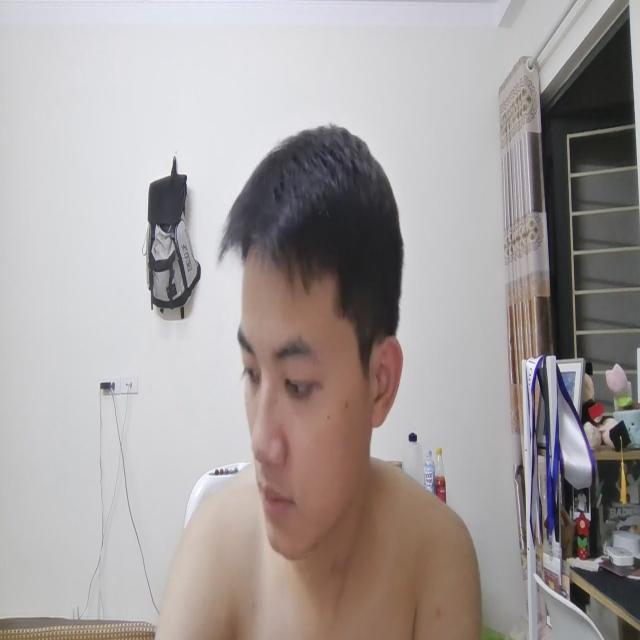student: (143, 121, 485, 640)
